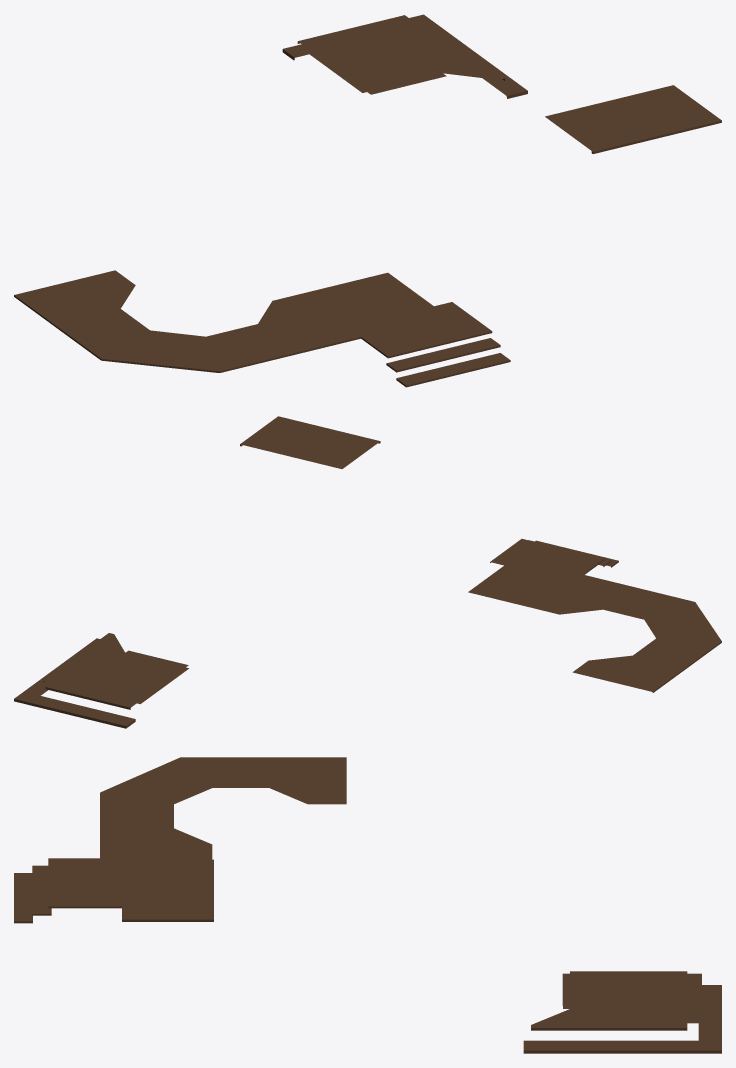
Rendered from Subsurfed_Porch.013.obj.
3 renders of one model, top to bottom at view 1: azimuth 30°, elevation 25°; view 2: azimuth 150°, elevation 25°; view 3: azimuth 270°, elevation 25°, orthographic. The views are drawn at different scales.
Parts seen in each view (by area): view 1: Subsurfed_Porch.013_Cube.001; view 2: Subsurfed_Porch.013_Cube.001; view 3: Subsurfed_Porch.013_Cube.001.
Part boxes in pixels (x1,y1,x2,y2): Subsurfed_Porch.013_Cube.001: (14,14,721,387); Subsurfed_Porch.013_Cube.001: (14,416,721,728); Subsurfed_Porch.013_Cube.001: (14,757,721,1053).
Bounding box in the file's own units: 18.37 × 3.89 × 19.51.
